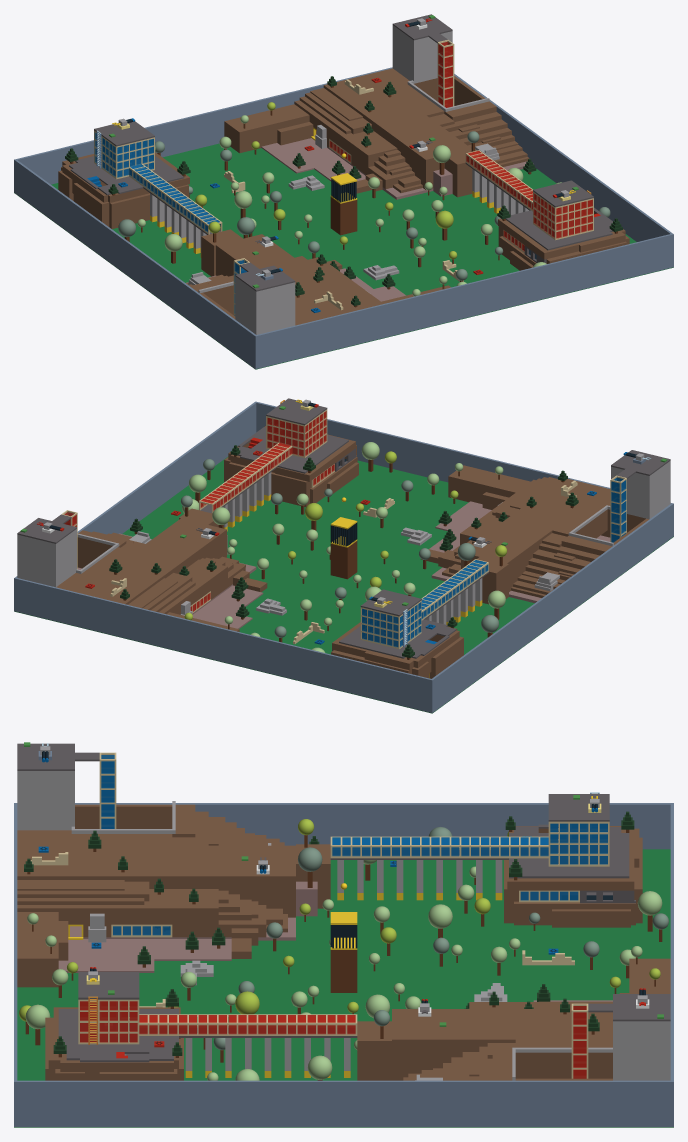
File: rmapa.glb
3 views of the same model, one above another, from view 1: azimuth 30°, elevation 25°; view 2: azimuth 150°, elevation 25°; view 3: azimuth 270°, elevation 25° (orthographic). The views are drawn at different scales.
Parts seen in each view (by area): view 1: Object_6, Object_7, Object_2, Object_19, Object_12, Object_22, Object_33, Object_14, Object_9, Object_21, Object_25, Object_13 (+4 smaller); view 2: Object_6, Object_7, Object_2, Object_19, Object_12, Object_22, Object_9, Object_33, Object_21, Object_14, Object_13, Object_25 (+4 smaller); view 3: Object_7, Object_2, Object_6, Object_19, Object_12, Object_22, Object_9, Object_33, Object_21, Object_14, Object_25, Object_13 (+4 smaller).
Boxes of the visible parts, x1,y1,x2,y2 form: Object_6: (14,67,673,369); Object_7: (58,68,629,325); Object_2: (14,143,673,369); Object_19: (118,18,569,334); Object_12: (69,14,613,291); Object_22: (94,40,593,315); Object_33: (329,41,592,251); Object_14: (186,136,533,301); Object_9: (94,132,246,315); Object_21: (137,115,561,296); Object_25: (65,76,622,305); Object_13: (70,86,617,307); Object_6: (14,401,673,713); Object_7: (56,426,648,678); Object_2: (14,456,673,713); Object_19: (17,399,670,624); Object_12: (17,398,670,658); Object_22: (61,409,626,649); Object_9: (362,477,626,647); Object_33: (64,411,334,611); Object_21: (182,442,505,652); Object_14: (77,501,610,628); Object_13: (114,455,573,659); Object_25: (109,445,578,657); Object_7: (17,804,670,1080); Object_2: (14,849,673,1127); Object_6: (14,751,673,1126); Object_19: (17,746,670,1080); Object_12: (17,743,670,1062); Object_22: (30,752,609,1078); Object_9: (101,755,607,935); Object_33: (80,1001,586,1078); Object_21: (25,860,662,1080); Object_14: (58,881,612,1001); Object_25: (24,811,634,1055); Object_13: (25,829,662,1080).
Bounding box in the file's own units: 400 × 77.19 × 400.
32 materials, 1 textured.
